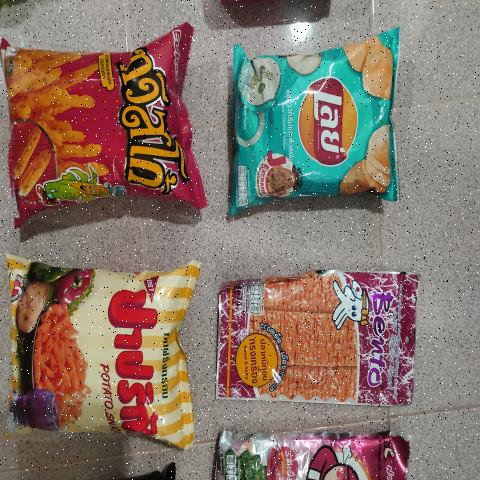bento_red: (219, 268, 415, 406)
lay_blue: (237, 58, 392, 195)
paprika: (12, 264, 177, 431)
twisco: (6, 50, 187, 206)
